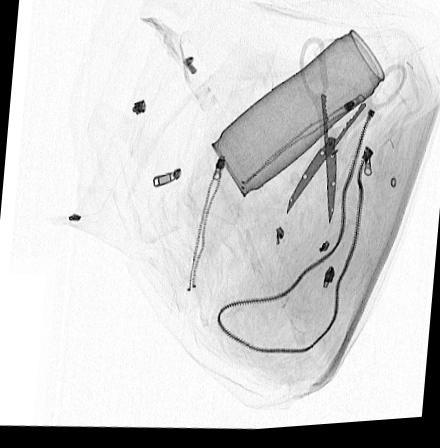Scissors: (283, 36, 411, 230)
